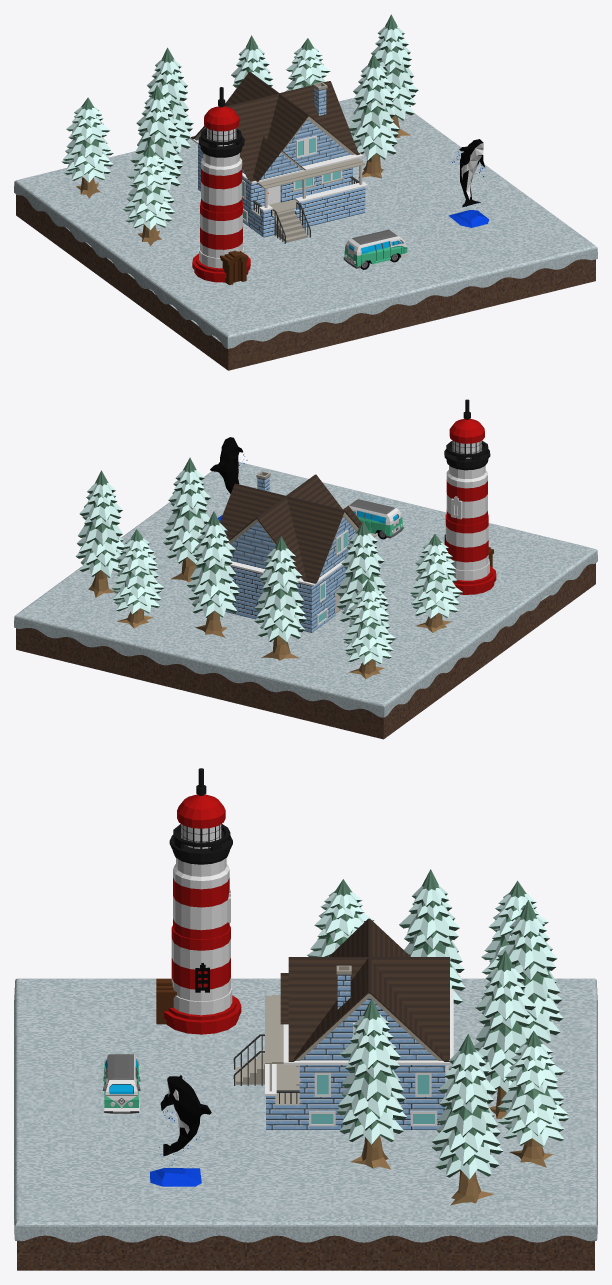
The picture shows the model from 3 angles, top to bottom: view 1: azimuth 30°, elevation 25°; view 2: azimuth 150°, elevation 25°; view 3: azimuth 270°, elevation 25°; orthographic projection. The views are drawn at different scales.
Parts seen in each view (by area): view 1: Cube.003, Cube.547, OBJRANDOM_LIGHTHOUSE, VEHICLES_VAN, ANIMAL_ORCA; view 2: Cube.003, Cube.547, OBJRANDOM_LIGHTHOUSE, VEHICLES_VAN, ANIMAL_ORCA; view 3: Cube.003, Cube.547, OBJRANDOM_LIGHTHOUSE, ANIMAL_ORCA, VEHICLES_VAN.
Part boxes in pixels (left/top/right/bottom): Cube.003: left=14, top=14, right=597, bottom=370; Cube.547: left=189, top=72, right=367, bottom=243; OBJRANDOM_LIGHTHOUSE: left=192, top=87, right=250, bottom=285; VEHICLES_VAN: left=343, top=229, right=408, bottom=269; ANIMAL_ORCA: left=448, top=139, right=488, bottom=227; Cube.003: left=14, top=457, right=597, bottom=739; Cube.547: left=220, top=471, right=379, bottom=632; OBJRANDOM_LIGHTHOUSE: left=444, top=399, right=496, bottom=594; VEHICLES_VAN: left=348, top=499, right=403, bottom=539; ANIMAL_ORCA: left=210, top=437, right=247, bottom=521; Cube.003: left=14, top=869, right=597, bottom=1270; Cube.547: left=233, top=918, right=453, bottom=1129; OBJRANDOM_LIGHTHOUSE: left=156, top=768, right=241, bottom=1034; ANIMAL_ORCA: left=150, top=1075, right=211, bottom=1186; VEHICLES_VAN: left=102, top=1054, right=140, bottom=1113.
Bounding box in the file's own units: 4040 × 2328 × 4040.
Materials: 37 (4 with a texture image).
